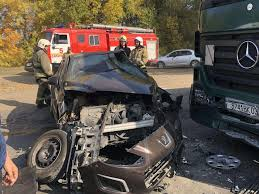car: (47, 60, 181, 187)
